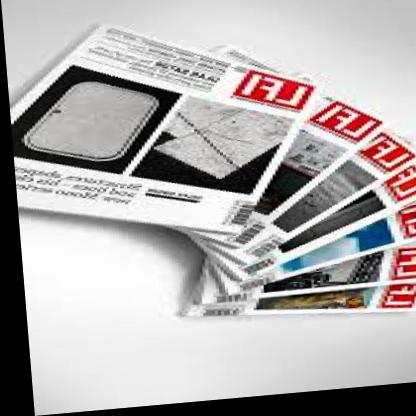Paper: (2, 0, 416, 386)
